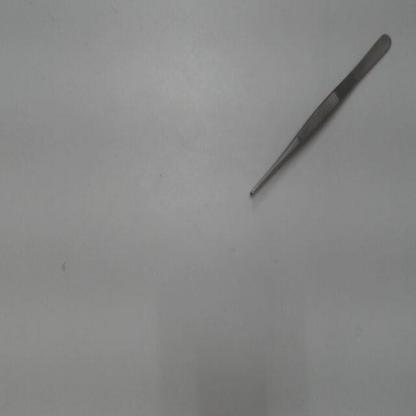Gillies Toothed Dissector: (241, 24, 398, 205)
